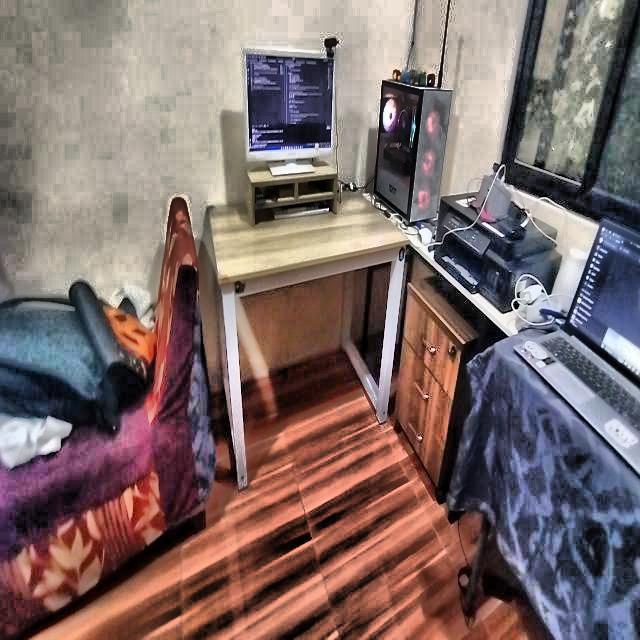mesa: (200, 170, 412, 464)
